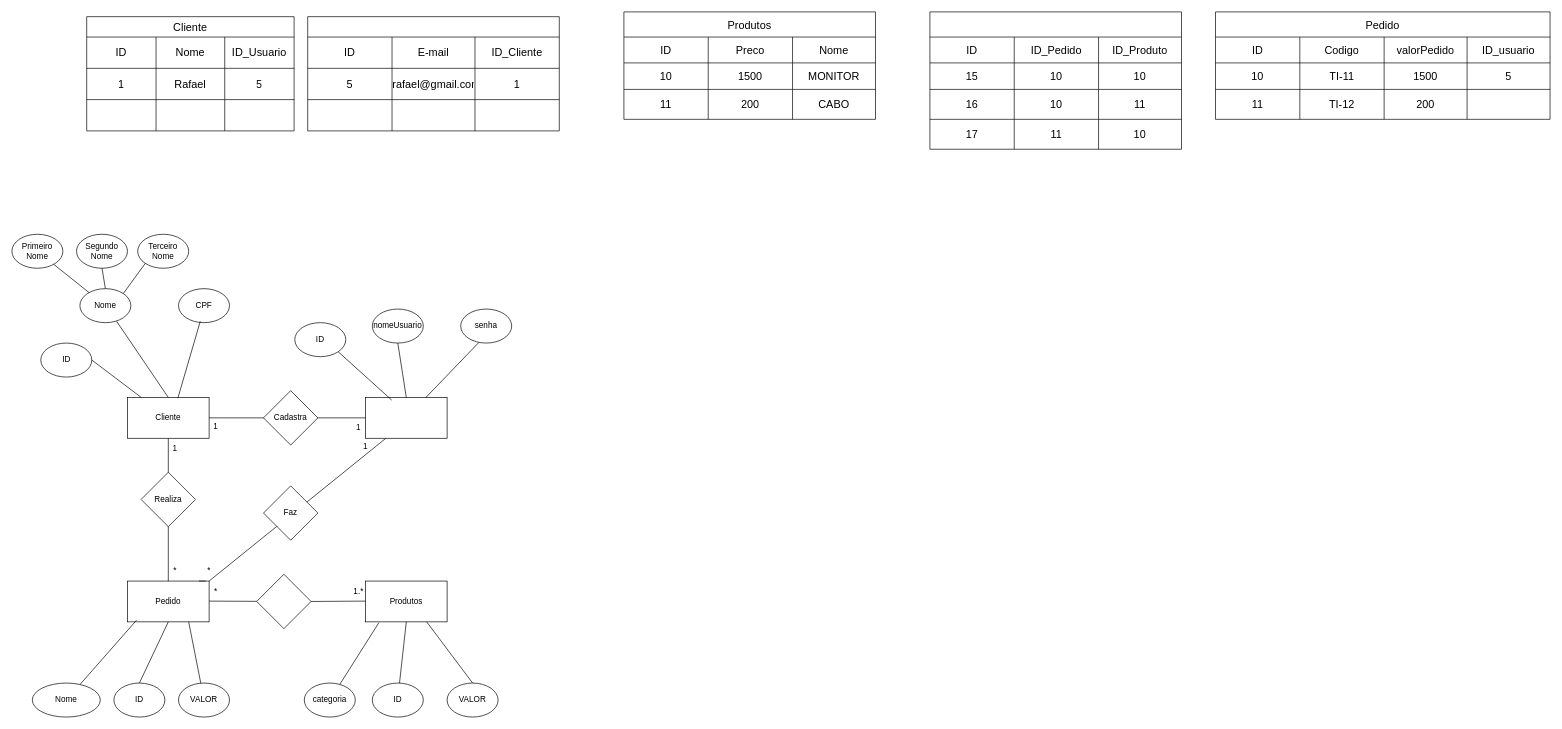
Some shapes in this 1562 by 729 pixel diagram are drawn without their labels. Each missing label, with the box of its shape:
Contém: (256, 574, 311, 629)
Produto_Pedido: (929, 11, 1182, 149)
Usuario: (307, 16, 559, 131)
Usuário: (365, 397, 447, 438)
